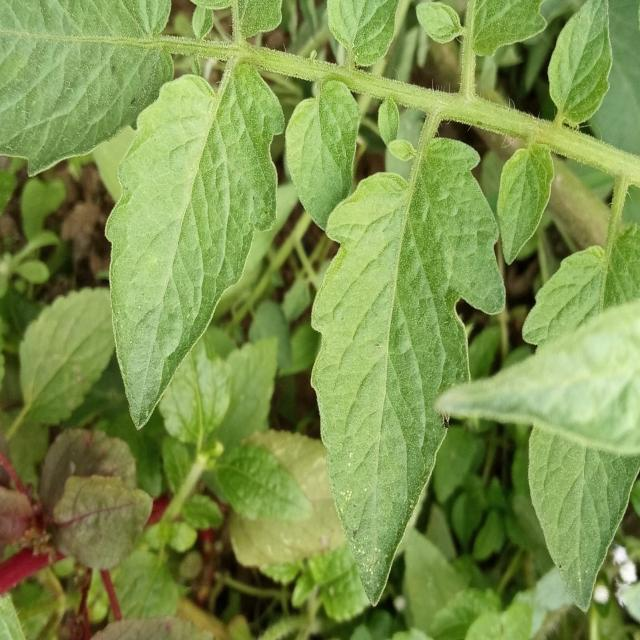Healthy: (264, 109, 533, 616), (65, 42, 306, 446), (485, 423, 640, 613), (500, 221, 640, 355), (276, 76, 363, 231), (487, 139, 558, 268), (544, 0, 616, 126)
